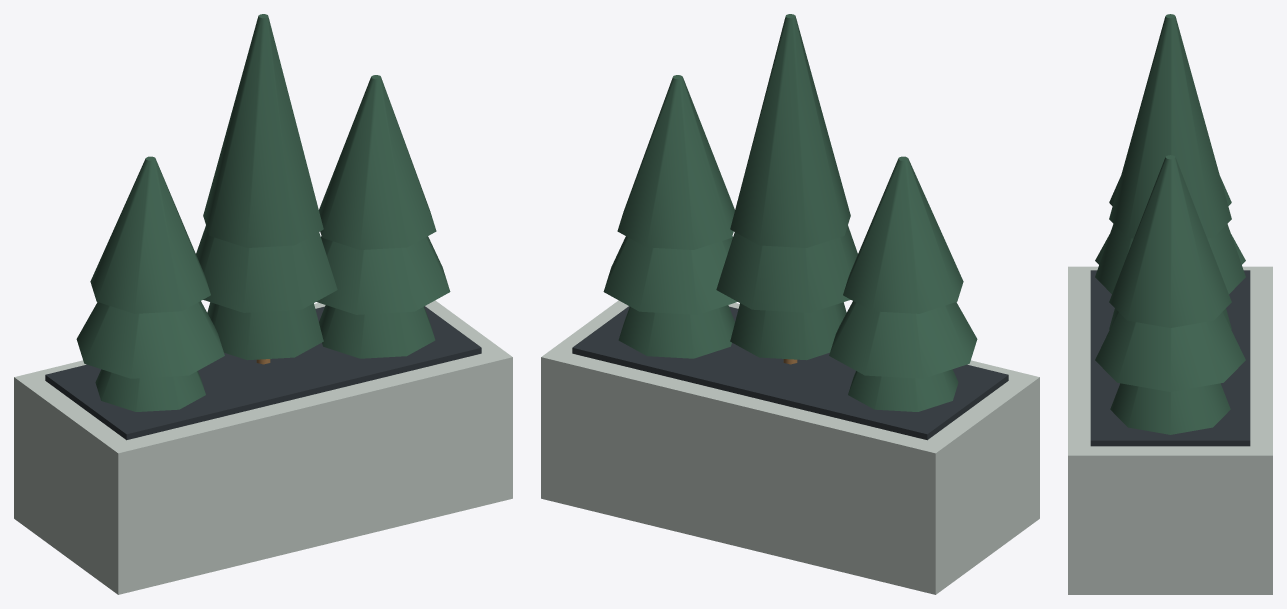
The model's file is planter.lod1.glb.
3 renders of one model, left to right at view 1: azimuth 30°, elevation 25°; view 2: azimuth 150°, elevation 25°; view 3: azimuth 270°, elevation 25°, orthographic.
Parts seen in each view (by area): view 1: structure; view 2: structure; view 3: structure.
Part boxes in pixels (x1,y1,x2,y2): structure: (14, 14, 512, 594); structure: (541, 14, 1039, 594); structure: (1068, 14, 1272, 594).
Bounding box in the file's own units: 3.5 × 4.18 × 1.6.
